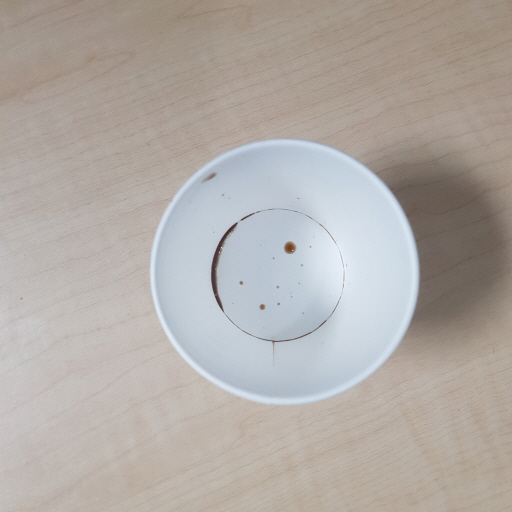Paper_1: (148, 139, 423, 401)
